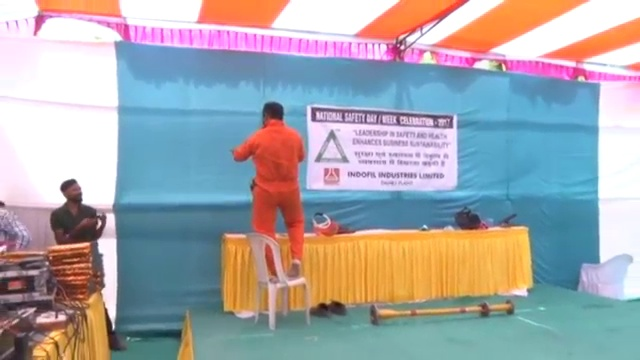helmet_off: (58, 178, 86, 207), (259, 100, 284, 127)
person: (225, 99, 310, 272), (49, 177, 109, 245)
